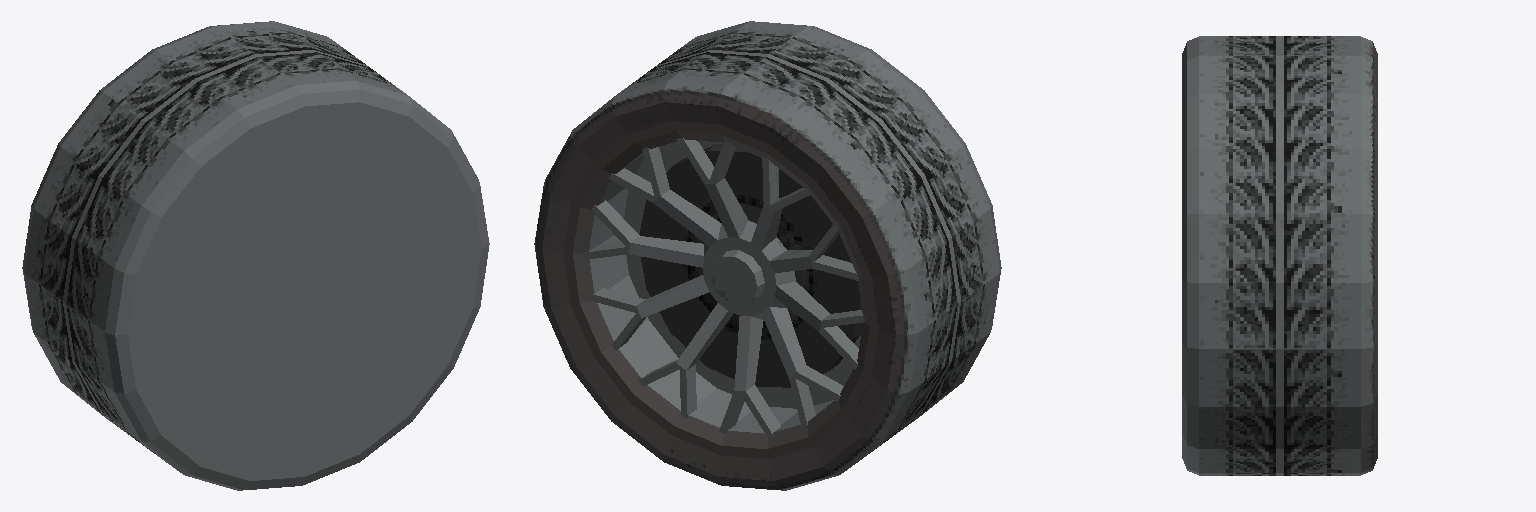
The picture shows the model from 3 angles: view 1: azimuth 30°, elevation 25°; view 2: azimuth 150°, elevation 25°; view 3: azimuth 270°, elevation 25°; orthographic projection.
Parts seen in each view (by area): view 1: Mesh; view 2: Mesh; view 3: Mesh.
Boxes of the visible parts, x1=… form: Mesh: x1=22, y1=21, x2=489, y2=490; Mesh: x1=534, y1=21, x2=1001, y2=490; Mesh: x1=1182, y1=36, x2=1377, y2=475.
Size of the model in its own units: 69.12 by 69.12 by 30.5.
Materials: 1 (1 with a texture image).